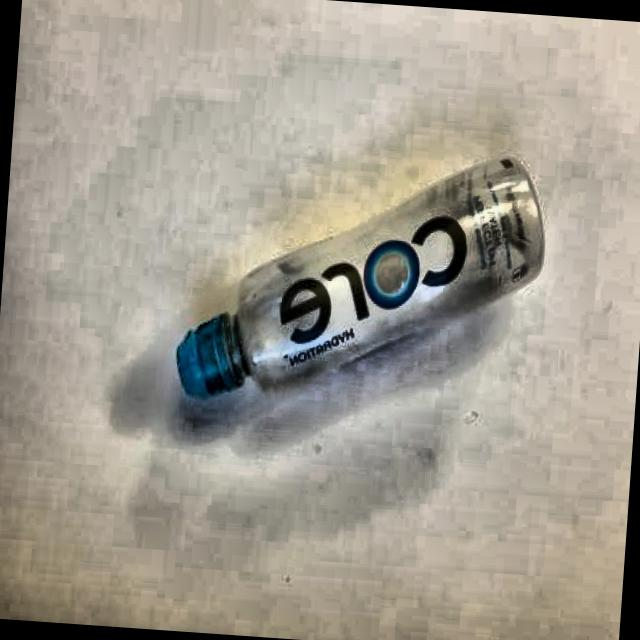plastic bottle: (176, 158, 544, 397)
